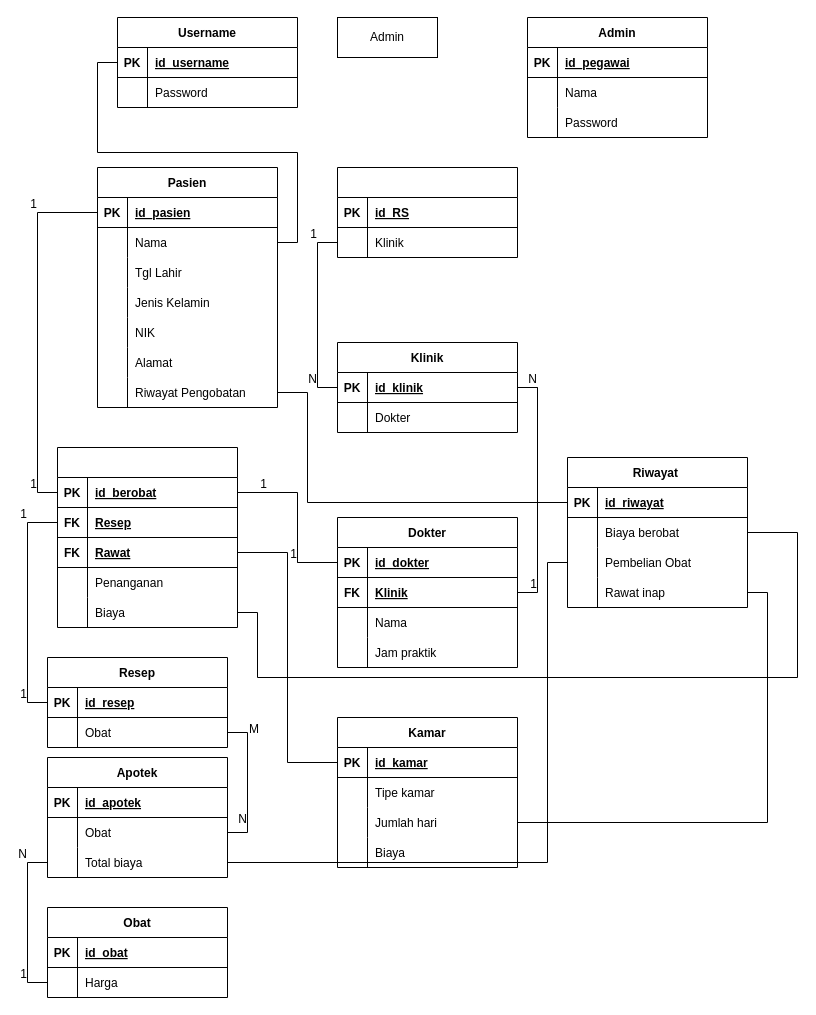
Some shapes in this 816 by 1015 pixel diagram are drawn without their labels. Here are the shapes that lost their labels. From the top down, the box of each, then its label:
(336, 166, 518, 258): Rumah Sakit
(56, 446, 238, 628): Pengobatan
